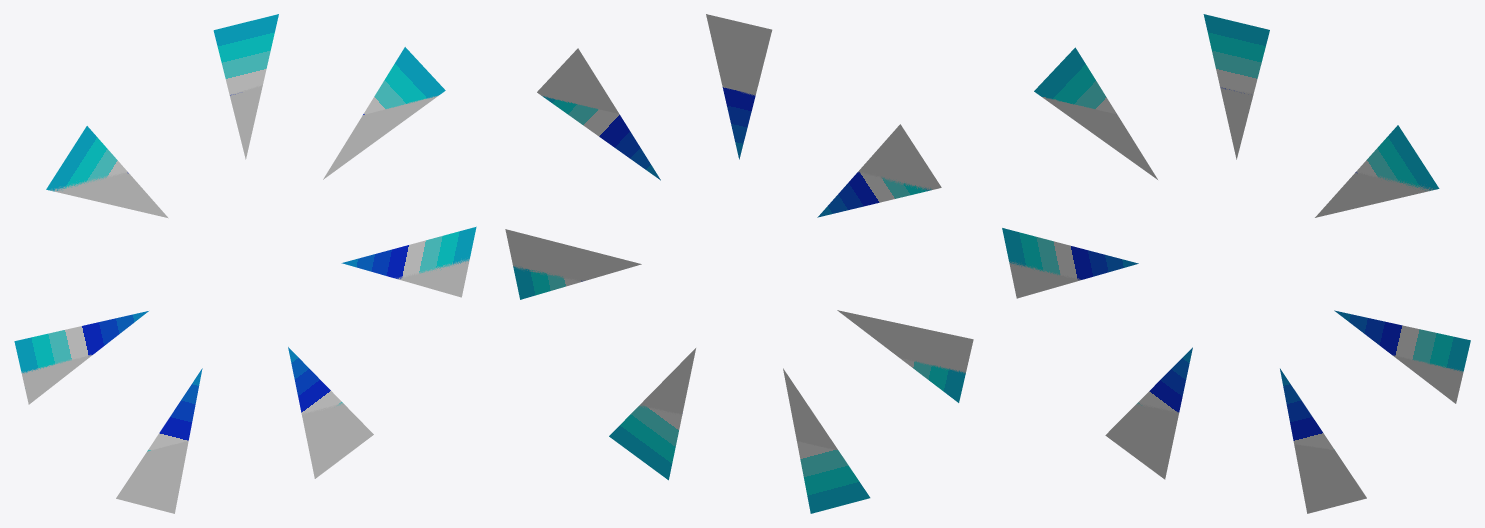
File: warp ring.fbx
3 views of the same model, side by side, from view 1: azimuth 30°, elevation 25°; view 2: azimuth 150°, elevation 25°; view 3: azimuth 330°, elevation 25° (orthographic).
Parts seen in each view (by area): view 1: warp ring, warp, warp.002, warp.005, warp.006, warp.001, warp.004, warp.003; view 2: warp ring, warp.003, warp.004, warp.006, warp.001, warp, warp.005, warp.002; view 3: warp ring, warp, warp.002, warp.005, warp.006, warp.001, warp.004, warp.003.
Part boxes in pixels (left/top/right/bottom): warp ring: left=21, top=84, right=469, bottom=513; warp: left=213, top=14, right=278, bottom=95; warp.002: left=14, top=311, right=148, bottom=373; warp.005: left=341, top=226, right=476, bottom=278; warp.006: left=363, top=47, right=445, bottom=114; warp.001: left=46, top=126, right=128, bottom=191; warp.004: left=288, top=347, right=343, bottom=415; warp.003: left=147, top=368, right=202, bottom=451; warp ring: left=505, top=14, right=973, bottom=449; warp.003: left=797, top=441, right=870, bottom=513; warp.004: left=609, top=404, right=682, bottom=480; warp.006: left=541, top=95, right=660, bottom=180; warp.001: left=817, top=170, right=931, bottom=217; warp: left=722, top=85, right=755, bottom=159; warp.005: left=513, top=266, right=582, bottom=299; warp.002: left=900, top=357, right=965, bottom=402; warp ring: left=1009, top=87, right=1463, bottom=513; warp: left=1203, top=14, right=1269, bottom=94; warp.002: left=1002, top=228, right=1138, bottom=279; warp.005: left=1334, top=310, right=1470, bottom=371; warp.006: left=1355, top=125, right=1439, bottom=190; warp.001: left=1034, top=47, right=1116, bottom=114; warp.004: left=1280, top=368, right=1334, bottom=449; warp.003: left=1137, top=347, right=1192, bottom=413.
Size of the model in its own units: 28186 by 27495 by 308.
Materials: 2 (1 with a texture image).
